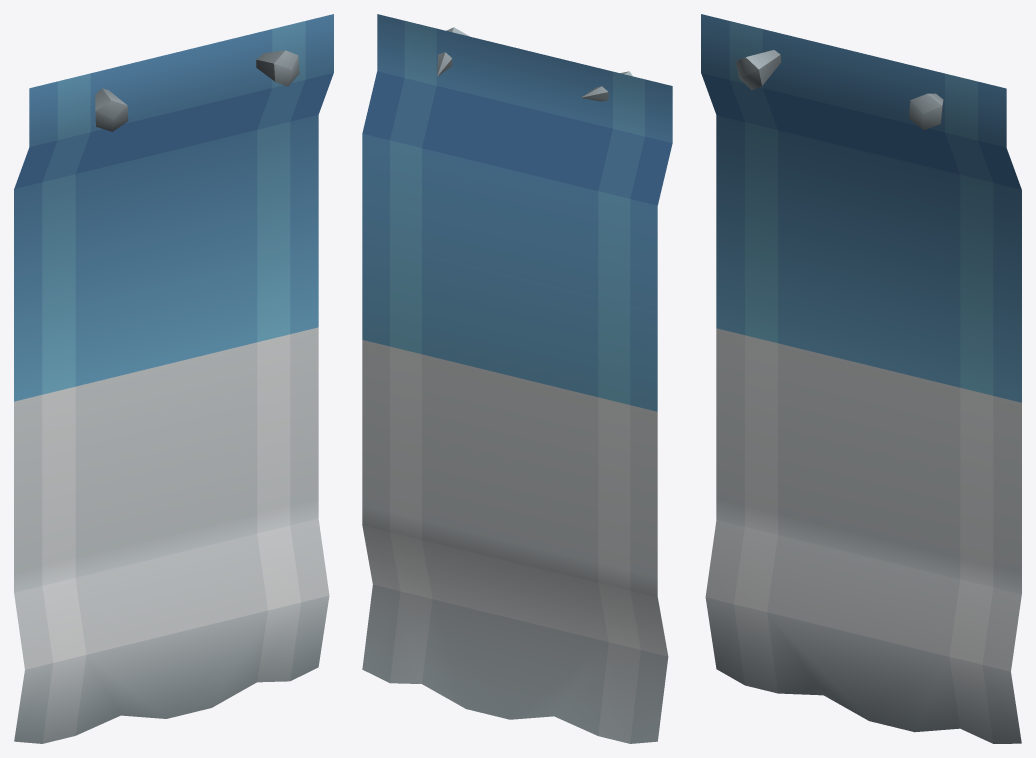
The model's file is banner_patternC_blue.glb.
3 renders of one model, left to right at view 1: azimuth 30°, elevation 25°; view 2: azimuth 150°, elevation 25°; view 3: azimuth 330°, elevation 25°, orthographic. The views are drawn at different scales.
Visible parts, largest first — view 1: banner_patternC_blue; view 2: banner_patternC_blue; view 3: banner_patternC_blue.
Part boxes in pixels (x1,y1,x2,y2): banner_patternC_blue: [14, 14, 333, 743]; banner_patternC_blue: [362, 14, 672, 743]; banner_patternC_blue: [701, 14, 1021, 743].
Size of the model in its own units: 1.5 by 3.2 by 0.3117.
1 material, 1 textured.
